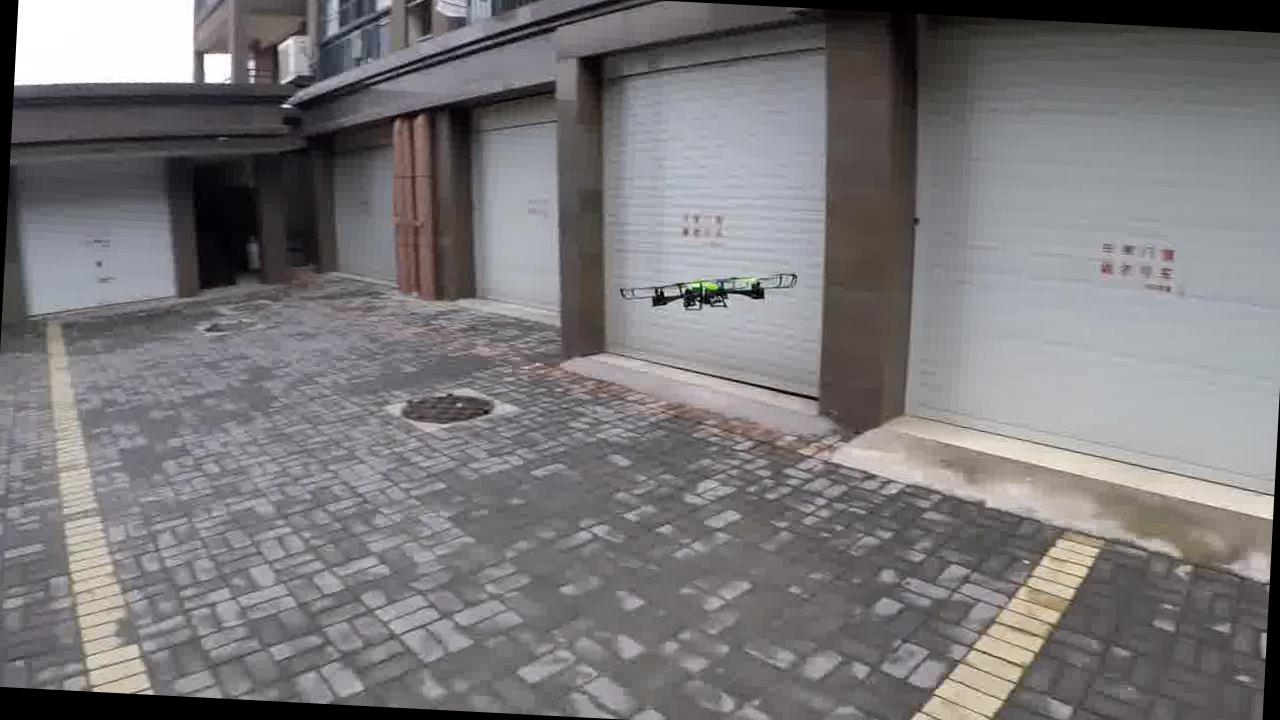drone: (622, 255, 808, 324)
